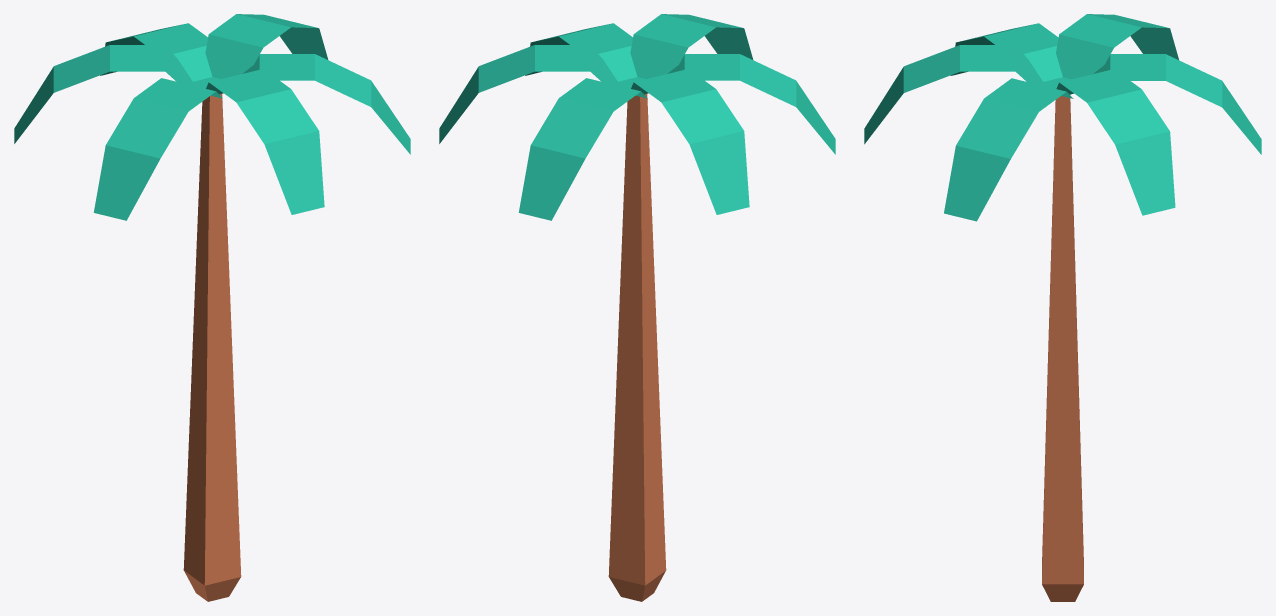
File: tree_palm.dae
The picture shows the model from 3 angles, left to right: view 1: azimuth 30°, elevation 25°; view 2: azimuth 150°, elevation 25°; view 3: azimuth 270°, elevation 25°; orthographic projection.
Visible parts, largest first — view 1: tree_palm; view 2: tree_palm; view 3: tree_palm.
Boxes of the visible parts, x1,y1,x2,y2 form: tree_palm: [14, 14, 410, 601]; tree_palm: [439, 14, 835, 601]; tree_palm: [864, 14, 1261, 601].
Size of the model in its own units: 0.9355 by 1.51 by 1.01.
